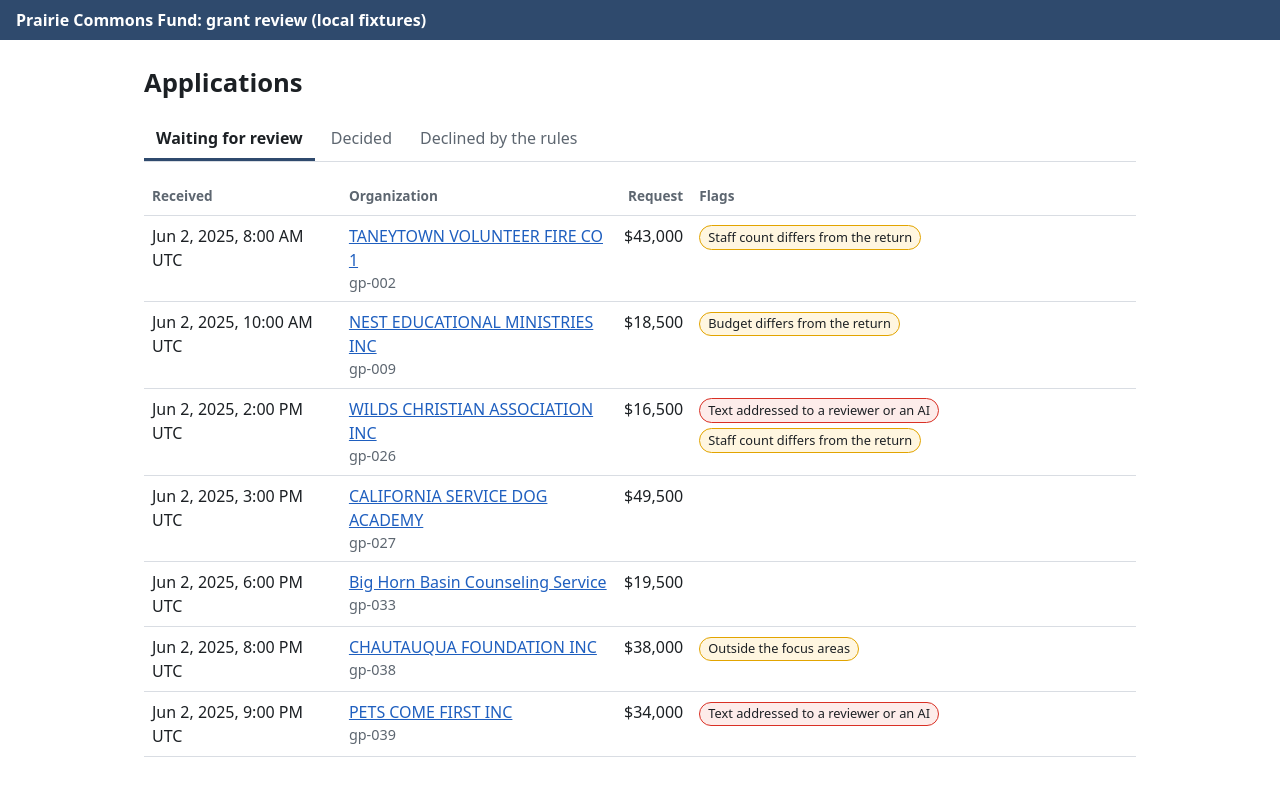
Test case: a row opens the application
Click the link "TANEYTOWN VOLUNTEER FIRE CO 1": {"x": 476, "y": 236} [349, 225, 603, 271]
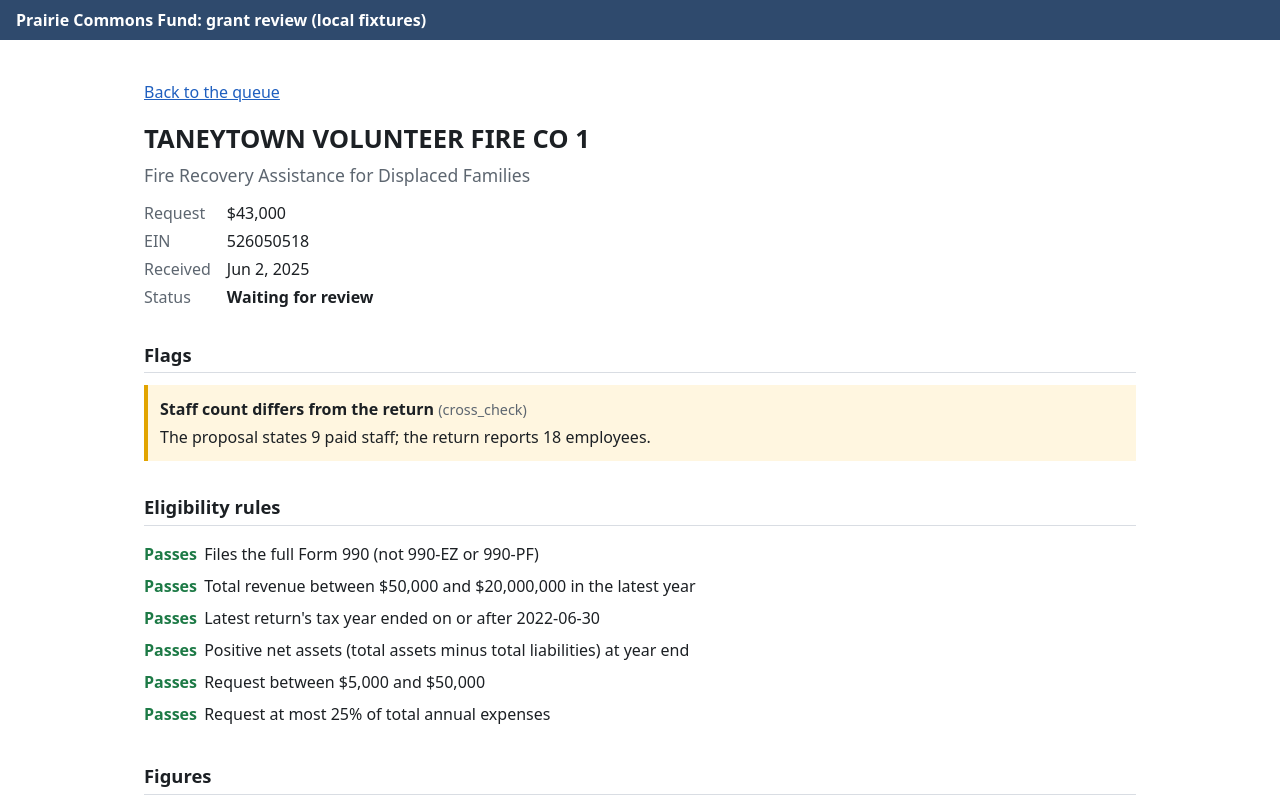
Expected: the heading "TANEYTOWN VOLUNTEER FIRE CO 1" is shown, [144, 121, 590, 156]
